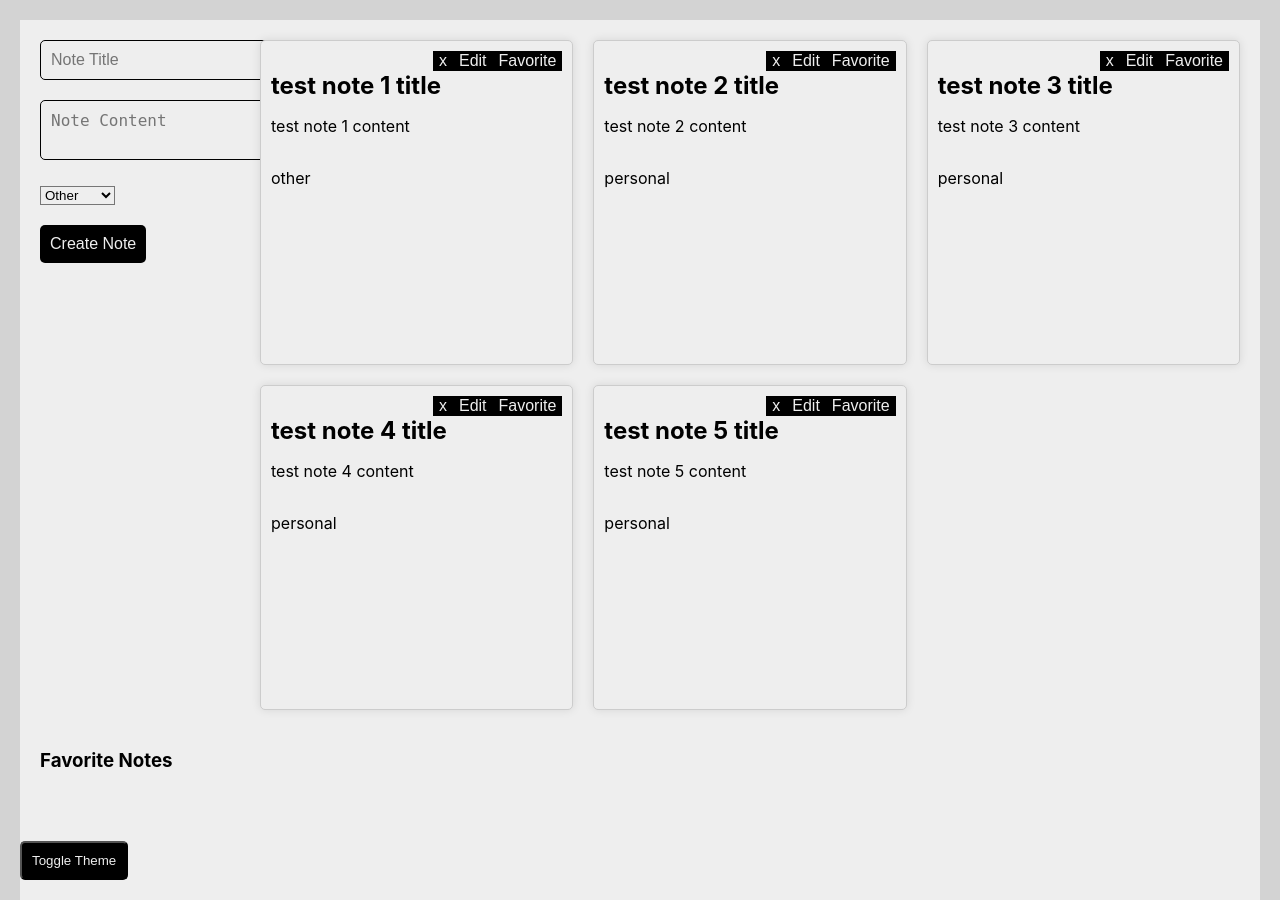
Test case: Create StickyNote › creates a new note
The image size is (1280, 900).
Step 1. Type "New Note" into the field with placeholder "Note Title" → (154, 60), box [40,40,269,80]
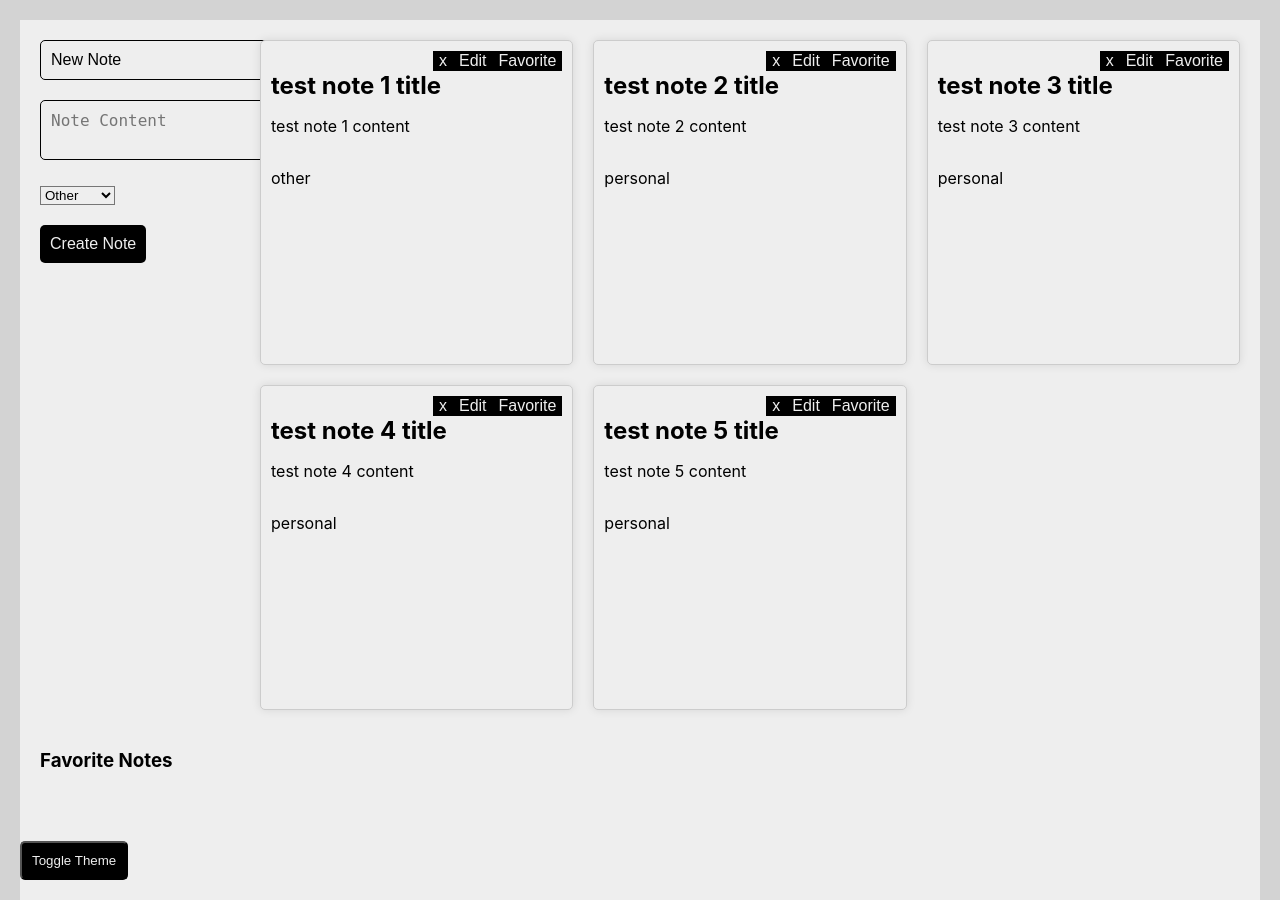
Step 2. Type "Note content" into the text box with placeholder "Note Content" → (158, 130), box [40,100,277,160]
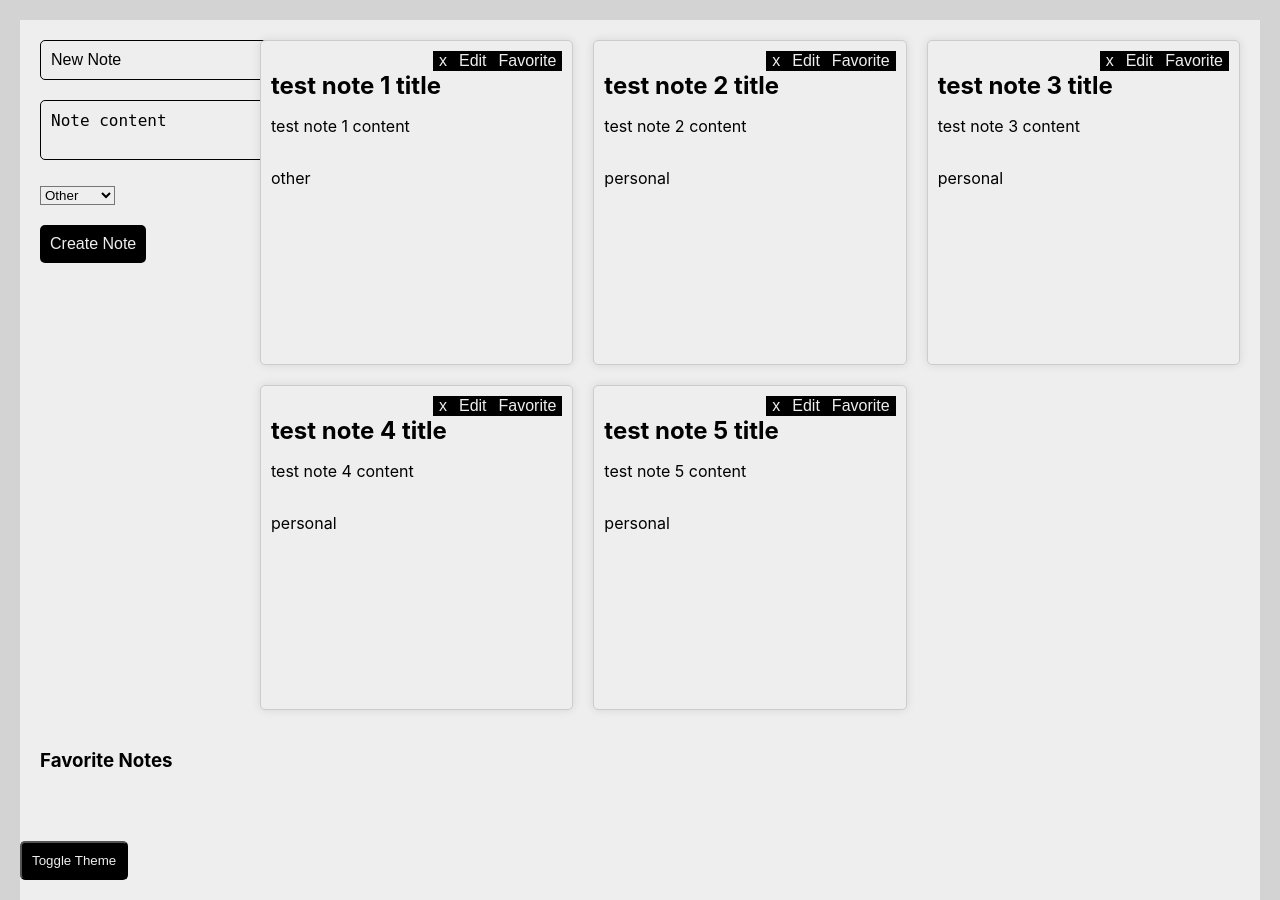
Step 3. Click the button "Create Note" → click(93, 244), box [40,225,146,263]
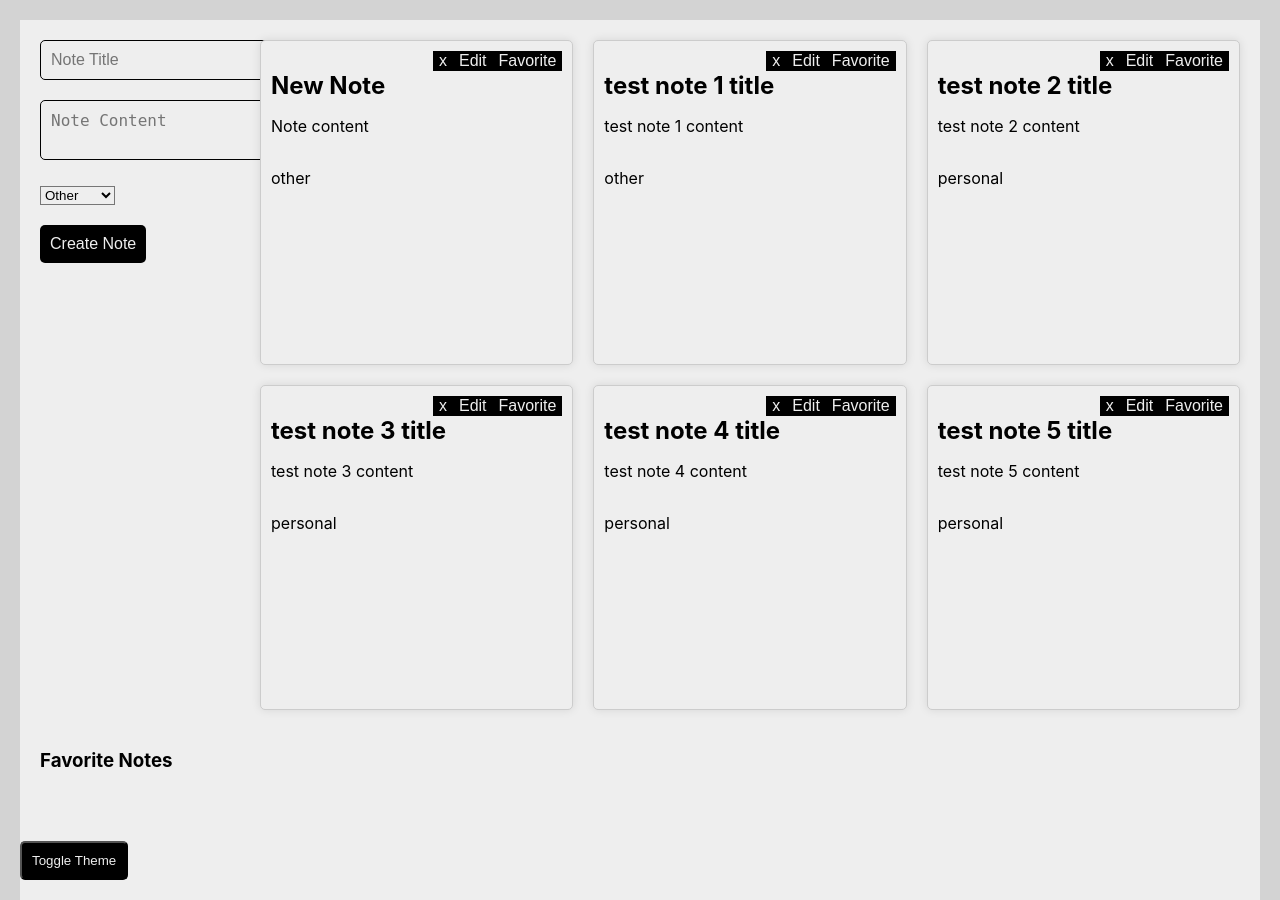
Check: the heading "New Note" is shown, box [271,71,385,100]
Check: the text "Note content" is shown, box [271,116,369,136]
